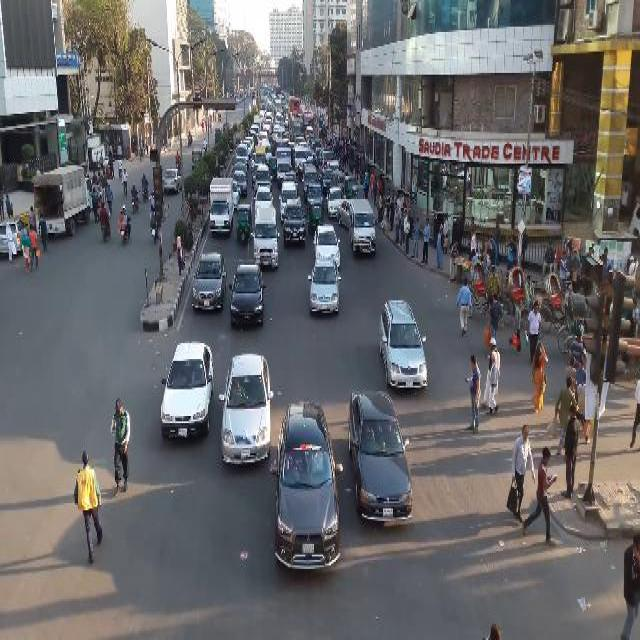bike: (120, 202, 133, 244), (100, 201, 111, 242), (150, 203, 159, 244), (132, 184, 141, 214), (141, 173, 149, 202), (175, 151, 181, 171), (204, 139, 208, 155), (189, 131, 193, 145)
vehicle: (272, 400, 347, 569), (349, 384, 419, 528), (219, 347, 276, 473), (159, 335, 213, 449), (378, 288, 428, 390), (32, 165, 93, 236), (505, 265, 546, 341), (468, 259, 506, 330), (229, 263, 268, 327), (541, 272, 576, 338), (192, 252, 227, 312), (308, 258, 342, 316), (558, 293, 586, 363), (251, 207, 281, 269), (350, 199, 379, 256), (210, 178, 235, 236), (283, 196, 307, 250), (313, 223, 342, 266), (3, 218, 30, 253), (280, 180, 301, 221), (302, 164, 324, 201), (308, 197, 326, 239), (237, 202, 253, 244), (252, 187, 274, 217), (254, 165, 274, 197), (277, 147, 291, 186), (328, 187, 346, 217), (307, 182, 325, 212), (164, 168, 183, 193), (232, 169, 248, 196), (321, 147, 336, 172), (294, 146, 308, 172), (290, 114, 304, 140), (303, 108, 316, 136), (235, 144, 249, 167), (331, 170, 346, 191), (345, 175, 357, 198), (255, 144, 267, 164), (233, 181, 241, 209), (289, 96, 300, 116), (192, 148, 202, 170), (353, 184, 366, 198), (233, 162, 247, 174), (243, 141, 253, 157), (244, 136, 255, 150), (258, 129, 268, 143), (274, 99, 283, 113), (274, 124, 282, 138), (216, 128, 223, 141), (254, 117, 262, 127), (218, 113, 222, 124)
